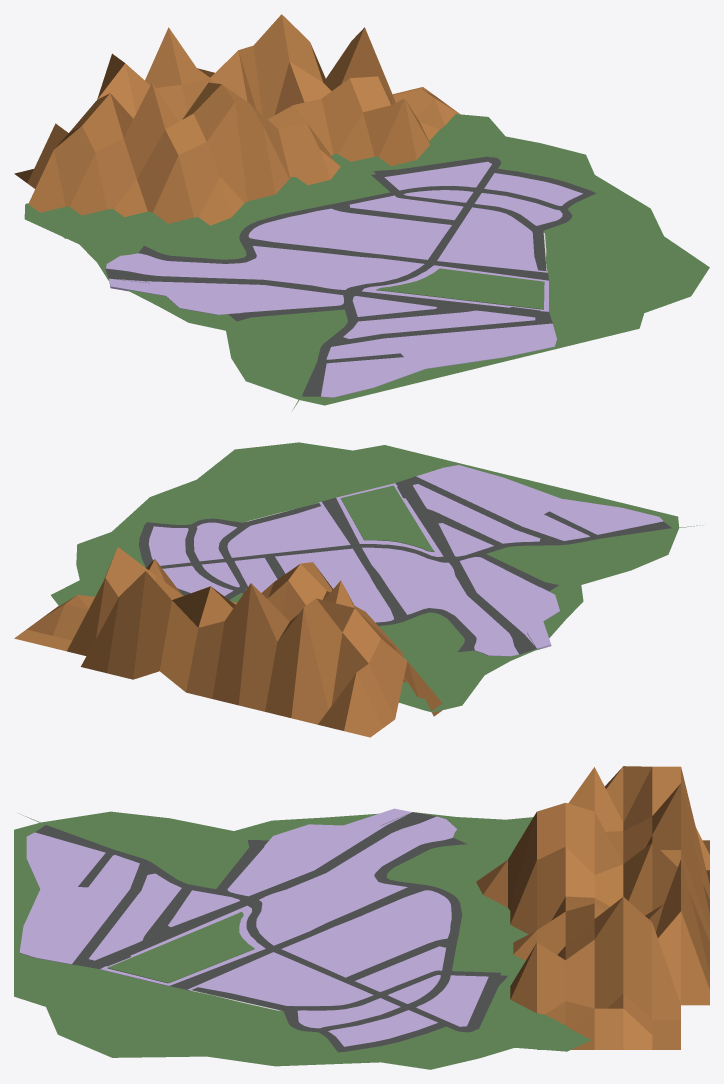
The model's file is City2.fbx.
3 renders of one model, top to bottom at view 1: azimuth 30°, elevation 25°; view 2: azimuth 150°, elevation 25°; view 3: azimuth 270°, elevation 25°, orthographic. The views are drawn at different scales.
Visible parts, largest first — view 1: Mountains, Base Plane For map, Roads, Curb Area 3.001, Curb Area 13, Curb Area 14, Curb Area 9, Park Area, Curb Area 12, Base Plane For map.001, Curb Area 6, Curb Area 7 (+5 smaller); view 2: Mountains, Base Plane For map, Roads, Curb Area 3.001, Curb Area 13, Base Plane For map.001, Curb Area 14, Curb Area 9, Park Area, Curb Area 12, Curb Area 7, Extra road.002 (+6 smaller); view 3: Base Plane For map, Mountains, Roads, Curb Area 3.001, Curb Area 13, Curb Area 14, Curb Area 9, Park Area, Base Plane For map.001, Curb Area 12, Curb Area 6, Curb Area 7 (+6 smaller).
Part boxes in pixels (x1,y1,x2,y2): Mountains: (14, 14, 459, 238); Base Plane For map: (24, 114, 709, 410); Roads: (105, 156, 595, 396); Curb Area 3.001: (106, 208, 451, 289); Curb Area 13: (321, 323, 556, 397); Curb Area 14: (109, 278, 343, 314); Curb Area 9: (437, 207, 547, 272); Park Area: (376, 268, 544, 309); Curb Area 12: (343, 310, 535, 338); Base Plane For map.001: (127, 122, 637, 404); Curb Area 6: (384, 161, 491, 190); Curb Area 7: (484, 173, 582, 206); Mountains: (14, 547, 442, 737); Base Plane For map: (51, 442, 705, 712); Roads: (138, 476, 671, 654); Curb Area 3.001: (275, 547, 519, 656); Curb Area 13: (416, 465, 663, 540); Base Plane For map.001: (54, 445, 678, 610); Curb Area 14: (459, 557, 559, 650); Curb Area 9: (227, 501, 350, 557); Park Area: (340, 485, 434, 551); Curb Area 12: (412, 484, 540, 543); Curb Area 7: (148, 526, 190, 565); Extra road.002: (218, 499, 335, 599); Base Plane For map: (14, 811, 591, 1069); Mountains: (476, 766, 709, 1049); Roads: (35, 812, 507, 1052); Curb Area 3.001: (256, 816, 457, 977); Curb Area 13: (19, 832, 139, 964); Curb Area 14: (227, 808, 411, 896); Curb Area 9: (187, 952, 373, 1006); Park Area: (107, 911, 254, 983); Base Plane For map.001: (14, 814, 558, 1046); Curb Area 12: (89, 873, 181, 960); Curb Area 6: (416, 975, 488, 1026); Curb Area 7: (328, 1010, 437, 1046).
Size of the model in its own units: 90948 by 22558 by 102588.
